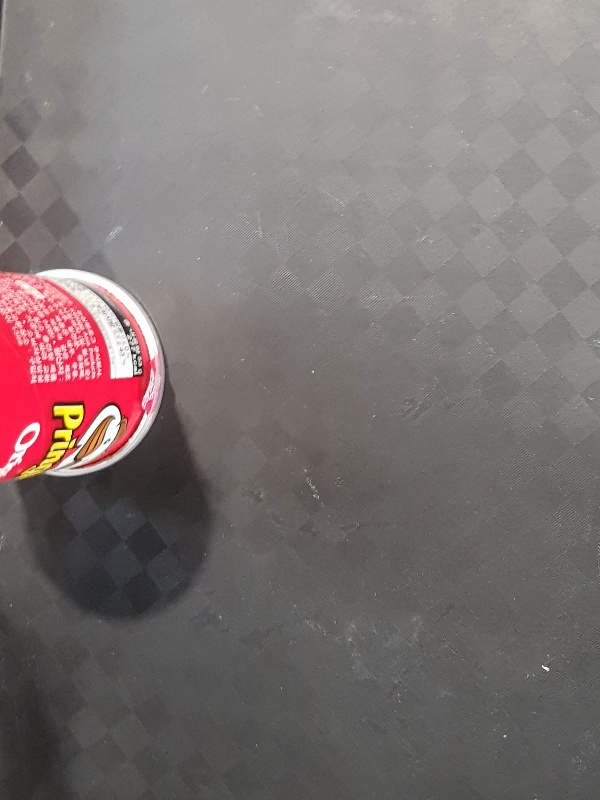Pringles Original: (1, 264, 166, 485)
